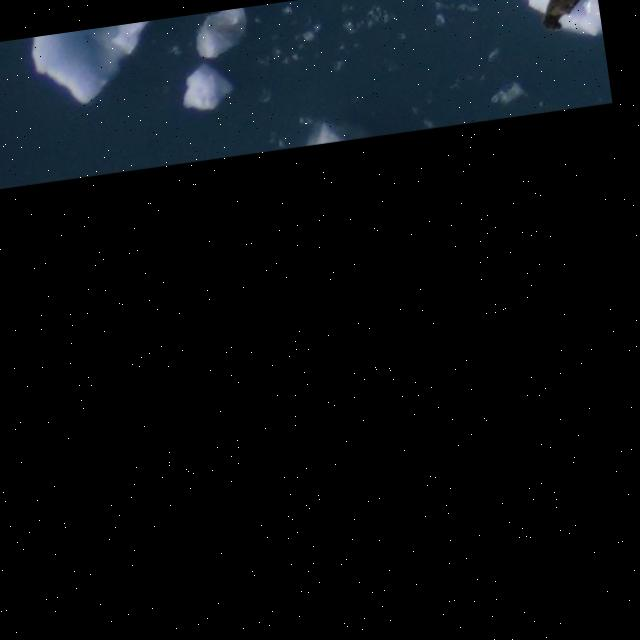seal: (541, 0, 582, 29)
